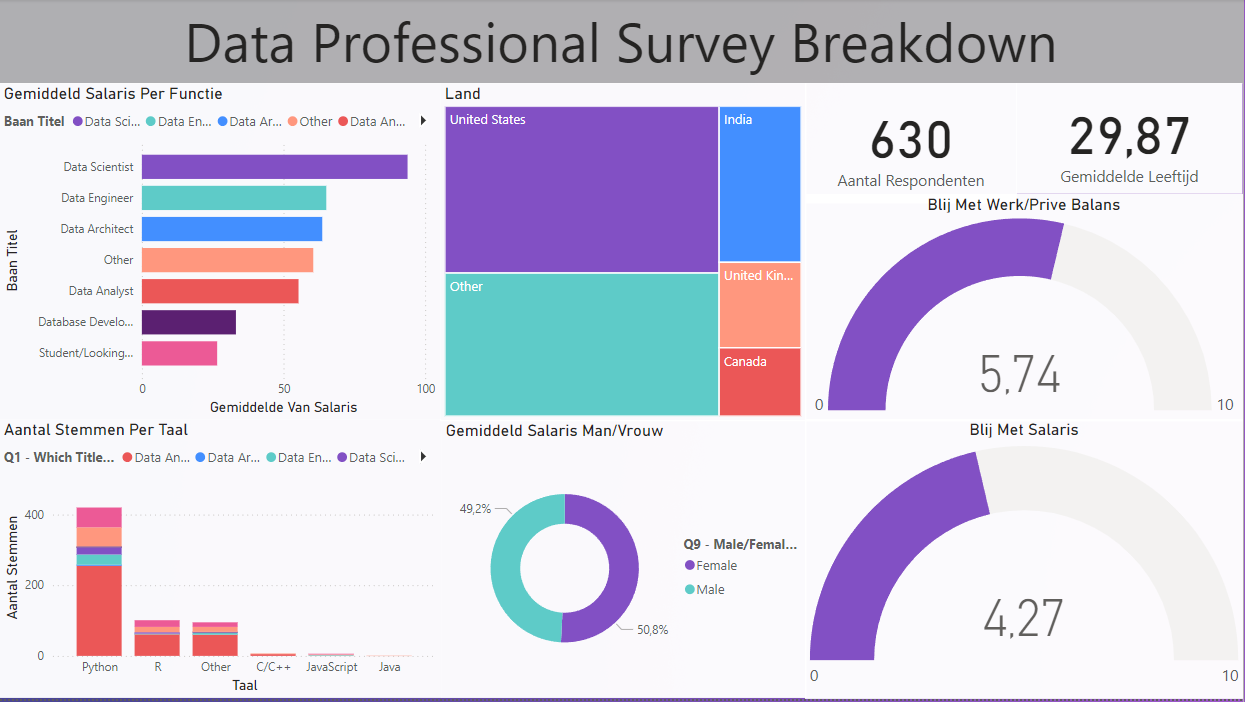

This screenshot's page, from the dashboard's own definition file:
{"tool":"powerbi","page":{"name":"Pagina 1","canvas":[1280,720],"ordinal":0},"visuals":[{"type":"textbox","box":[0,0,1280,86.6],"z":0},{"type":"card","fields":{"Values":["Count(Data Professional Survey.Unique ID)"]},"box":[829.1,86.8,217.7,123.7],"z":1000},{"type":"card","fields":{"Values":["Avg(Data Professional Survey.Q10 - Current Age)"]},"box":[1046.8,86.8,233.2,114.2],"z":2000},{"type":"barChart","title":"Gemiddeld Salaris Per Functie","fields":{"Y":["Avg(Data Professional Survey.Average Salary)"],"Category":["Data Professional Survey.Q1 - Which Title Best Fits your Current Role?.1"],"Series":["Data Professional Survey.Q1 - Which Title Best Fits your Current Role?.1"]},"box":[0,86.1,453.5,346.5],"z":3000},{"type":"columnChart","title":"Aantal Stemmen Per Taal","fields":{"Category":["Data Professional Survey.Q5 - Favorite Programming Language.1"],"Y":["CountNonNull(Data Professional Survey.Unique ID)"],"Series":["Data Professional Survey.Q1 - Which Title Best Fits your Current Role?.1"]},"box":[0,432.2,454.8,287.1],"z":4000},{"type":"treemap","title":"Land","fields":{"Group":["Data Professional Survey.Q11 - Which Country do you live in?.1"],"Values":["CountNonNull(Data Professional Survey.Q11 - Which Country do you live in?.1)"]},"box":[453.8,86.4,376.6,347.8],"z":5000},{"type":"gauge","title":"Blij Met Salaris","fields":{"Y":["Avg(Data Professional Survey.Q6 - How Happy are you in your Current Position with the following? (Salary))"],"MinValue":["Min(Data Professional Survey.Q6 - How Happy are you in your Current Position with the following? (Salary))"],"MaxValue":["Max(Data Professional Survey.Q6 - How Happy are you in your Current Position with the following? (Salary))1"]},"box":[829.1,431.8,450.9,287.9],"z":6000},{"type":"gauge","title":"Blij Met Werk/Prive Balans","fields":{"Y":["Avg(Data Professional Survey.Q6 - How Happy are you in your Current Position with the following? (Work/Life Balance))"],"MinValue":["Min(Data Professional Survey.Q6 - How Happy are you in your Current Position with the following? (Work/Life Balance))1"],"MaxValue":["Max(Data Professional Survey.Q6 - How Happy are you in your Current Position with the following? (Work/Life Balance))2"]},"box":[829.3,200.6,450.7,233.6],"z":7000},{"type":"donutChart","title":"Gemiddeld Salaris Man/Vrouw","fields":{"Category":["Data Professional Survey.Q9 - Male/Female?"],"Y":["Avg(Data Professional Survey.Average Salary)"]},"box":[454.8,433.2,375.6,286],"z":8000}]}

Visuals, with their boxes in screenshot pixels (x1, y1, x2, y2), scaled from the page's 1280x720 canvas onto the 1245x702 screenshot:
textbox: left=0, top=0, right=1244, bottom=84
card - Count(Data Professional Survey.Unique ID): left=806, top=85, right=1018, bottom=205
card - Avg(Data Professional Survey.Q10 - Current Age): left=1018, top=85, right=1244, bottom=196
"Gemiddeld Salaris Per Functie" barChart: left=0, top=84, right=441, bottom=422
"Aantal Stemmen Per Taal" columnChart: left=0, top=421, right=442, bottom=701
"Land" treemap: left=441, top=84, right=808, bottom=423
"Blij Met Salaris" gauge: left=806, top=421, right=1244, bottom=701
"Blij Met Werk/Prive Balans" gauge: left=807, top=196, right=1244, bottom=423
"Gemiddeld Salaris Man/Vrouw" donutChart: left=442, top=422, right=808, bottom=701
